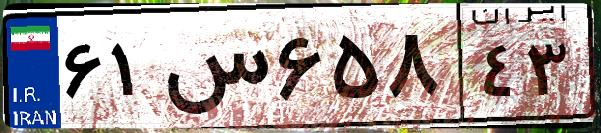1: (110, 28, 158, 98)
3: (525, 38, 570, 115)
4: (475, 38, 525, 113)
5: (330, 28, 385, 110)
6: (270, 28, 330, 110), (57, 26, 110, 100)
8: (385, 28, 445, 110)
س: (158, 20, 270, 120)
